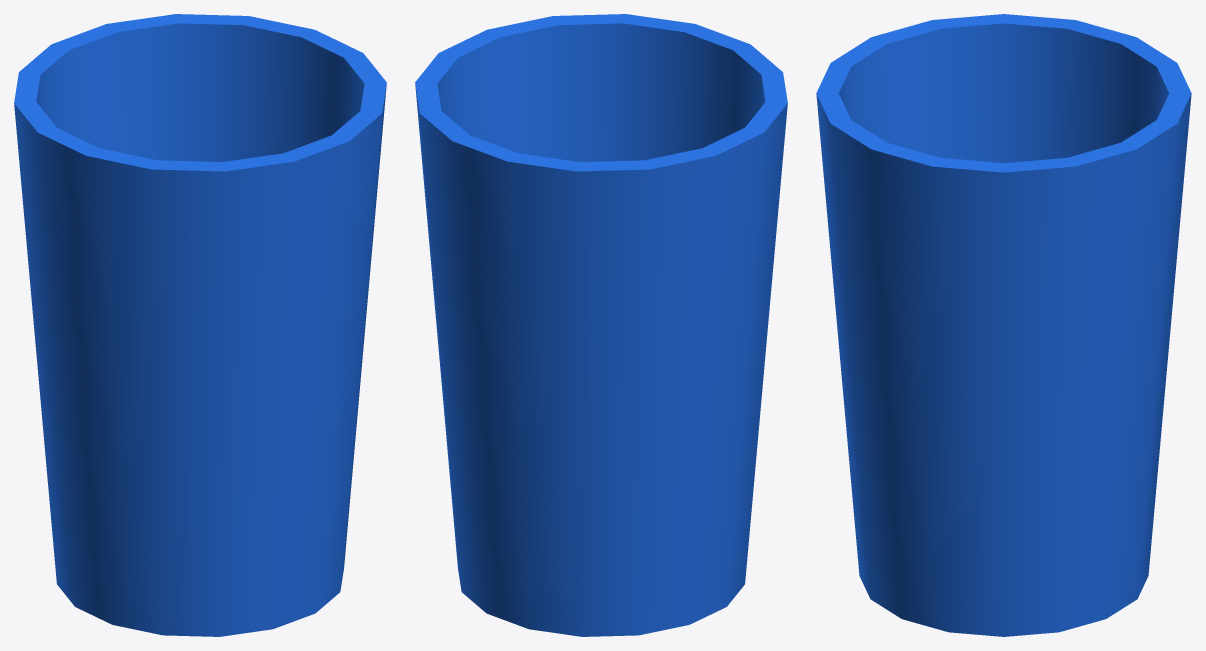
Rendered from blue_cup.fbx.
3 views of the same model, side by side, from view 1: azimuth 30°, elevation 25°; view 2: azimuth 150°, elevation 25°; view 3: azimuth 270°, elevation 25° (orthographic).
Visible parts, largest first — view 1: blue_cup; view 2: blue_cup; view 3: blue_cup.
Part boxes in pixels (box(x1,y1,x2,y2)): blue_cup: box(14, 14, 386, 636); blue_cup: box(415, 14, 787, 636); blue_cup: box(816, 14, 1191, 636).
Size of the model in its own units: 14.8 by 21 by 14.8.
1 material, 1 textured.
